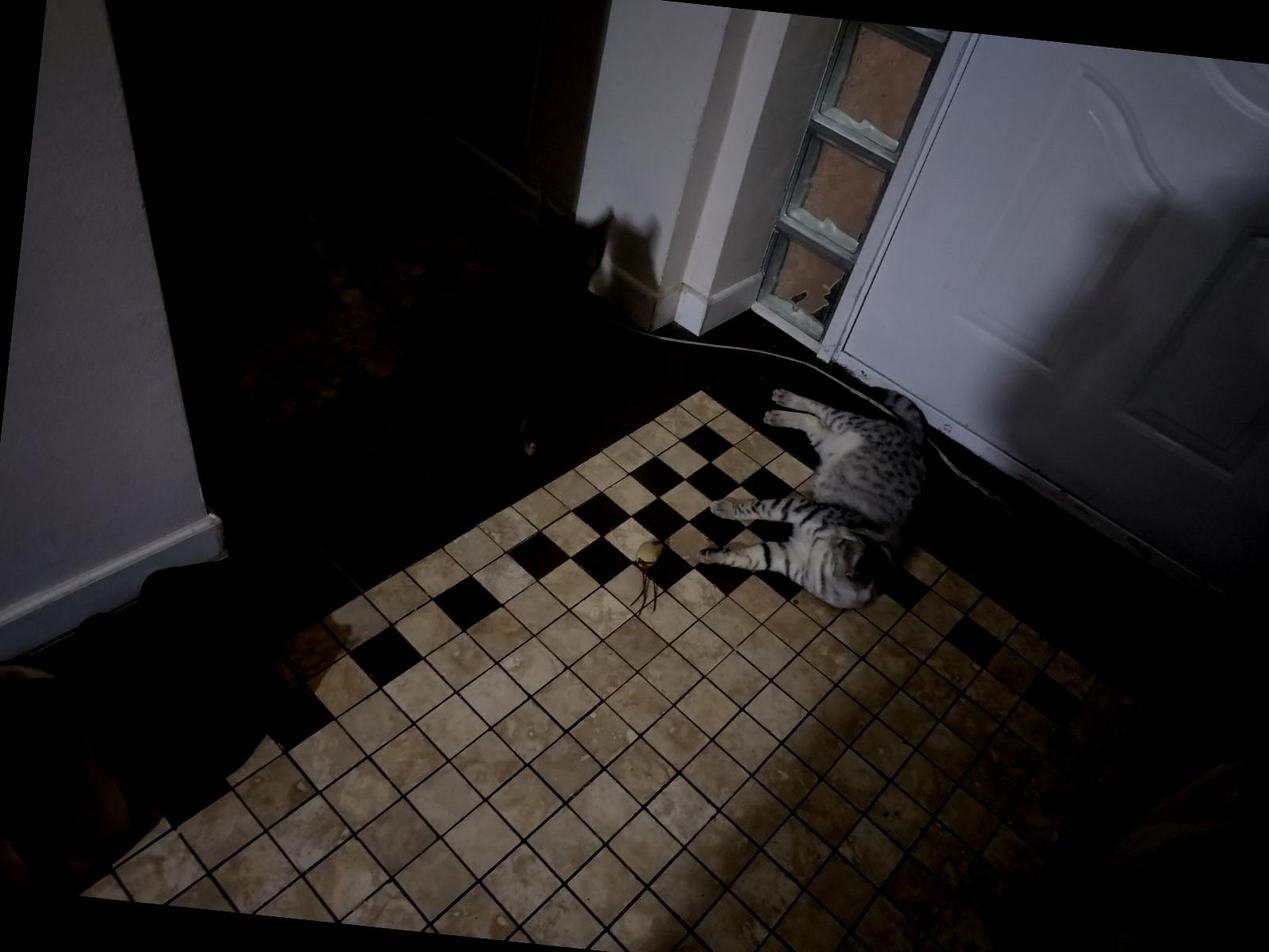macka: (283, 170, 625, 504), (689, 364, 947, 618)
